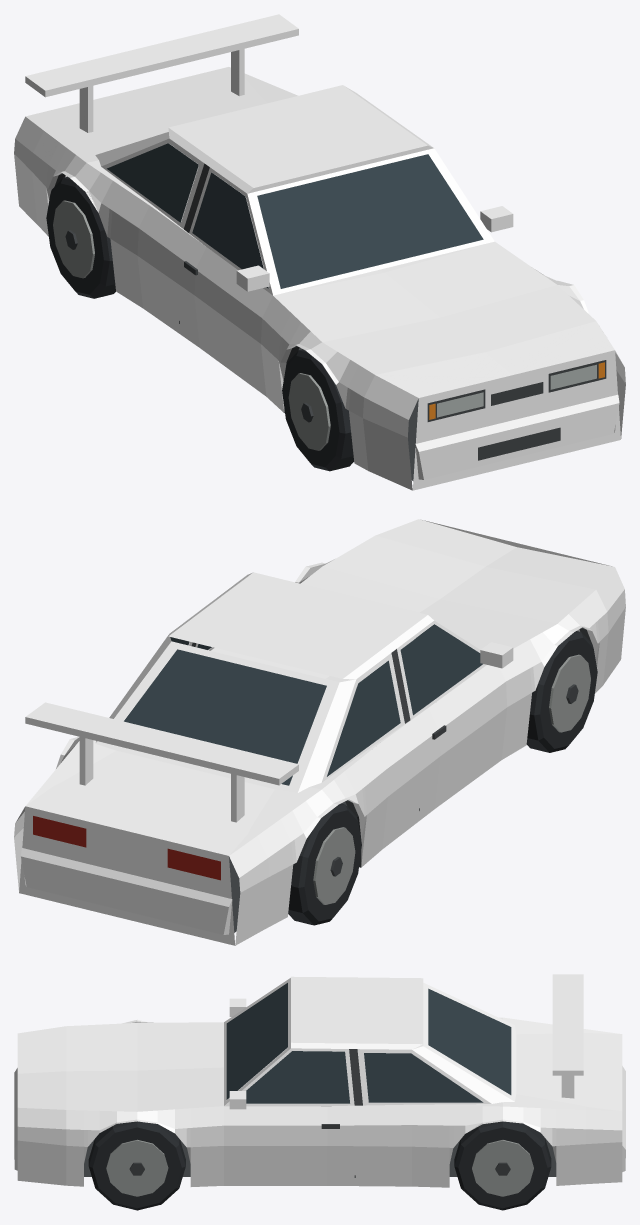
Rendered from keldorf_rabe_corrida.glb.
3 views of the same model, one above another, from view 1: azimuth 30°, elevation 25°; view 2: azimuth 150°, elevation 25°; view 3: azimuth 270°, elevation 25° (orthographic). The views are drawn at different scales.
Parts seen in each view (by area): view 1: keldorf_rabe_corrida; view 2: keldorf_rabe_corrida; view 3: keldorf_rabe_corrida.
Part boxes in pixels (bbox=[...]): keldorf_rabe_corrida: bbox=[14, 14, 625, 490]; keldorf_rabe_corrida: bbox=[14, 519, 625, 945]; keldorf_rabe_corrida: bbox=[14, 974, 625, 1210].
Size of the model in its own units: 1.71 by 1.2 by 4.35.
Materials: 8 (1 with a texture image).
